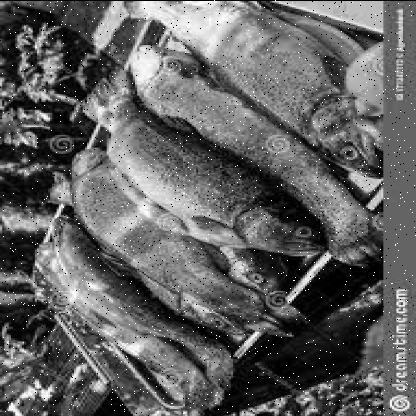fish: (124, 2, 380, 180), (75, 76, 322, 257)
